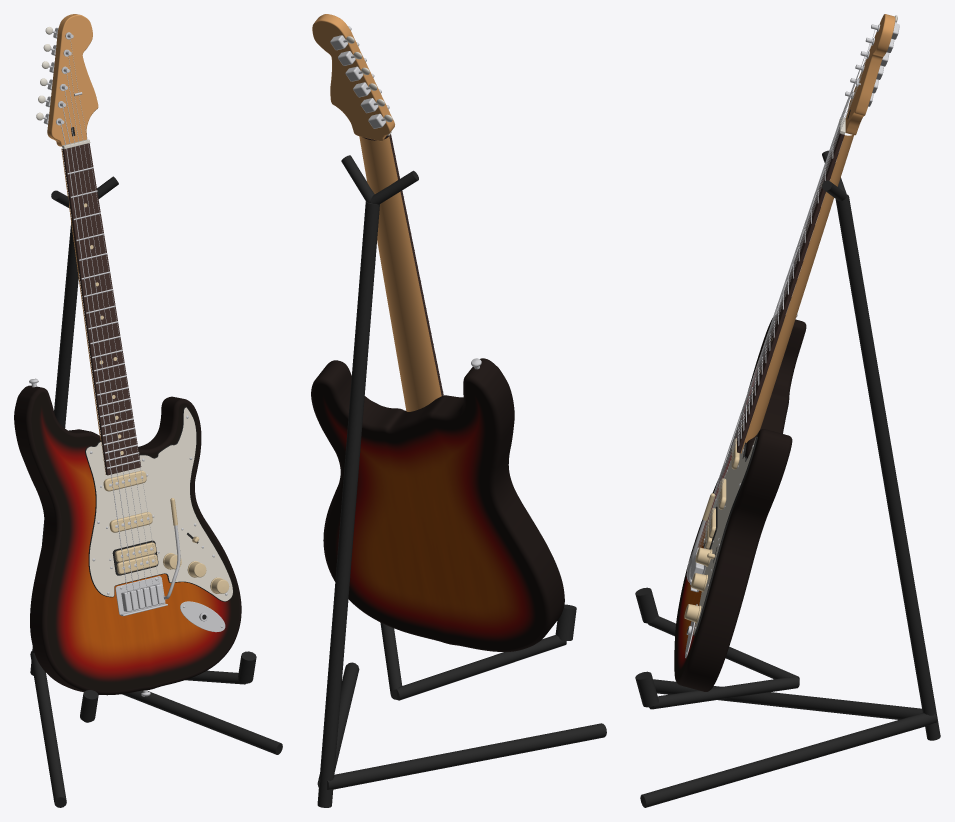
Rendered from guitar.glb.
3 renders of one model, left to right at view 1: azimuth 30°, elevation 25°; view 2: azimuth 150°, elevation 25°; view 3: azimuth 270°, elevation 25°, orthographic. The views are drawn at different scales.
Parts seen in each view (by area): view 1: guitar_body, guitar; view 2: guitar_body, guitar; view 3: guitar_body, guitar.
Boxes of the visible parts, x1,y1,x2,y2 form: guitar_body: [14, 14, 241, 696]; guitar: [30, 176, 282, 807]; guitar_body: [311, 14, 564, 651]; guitar: [317, 155, 606, 807]; guitar_body: [674, 14, 899, 691]; guitar: [635, 150, 940, 807].
Bounding box in the file's own units: 0.3763 × 1.07 × 0.3996.
Materials: 8 (1 with a texture image).
